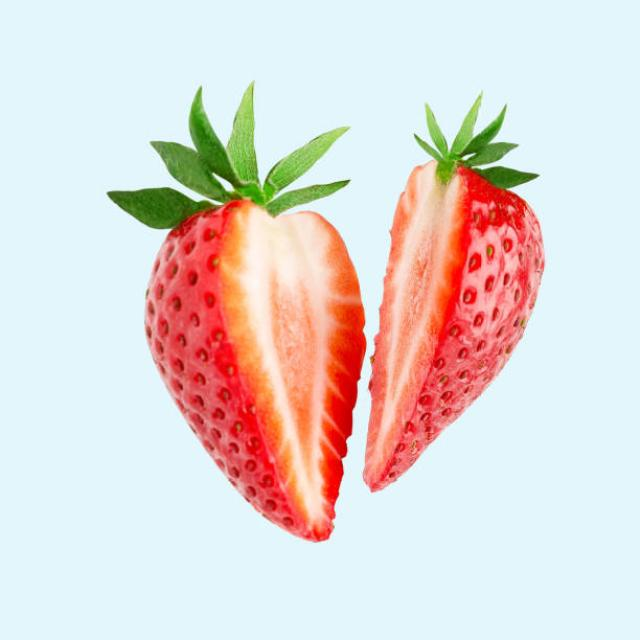Healthy Fruit: (142, 199, 364, 539), (367, 159, 544, 497)
